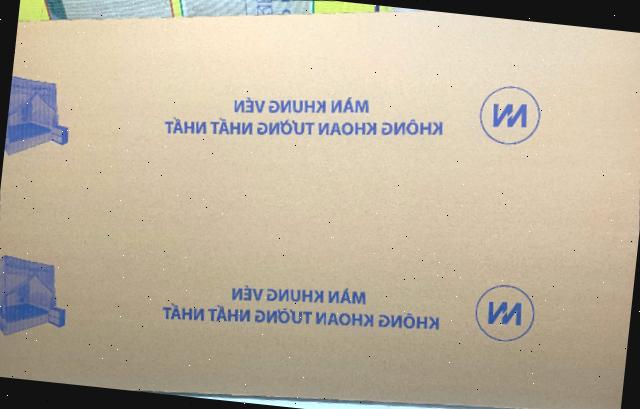box: (0, 11, 640, 409)
